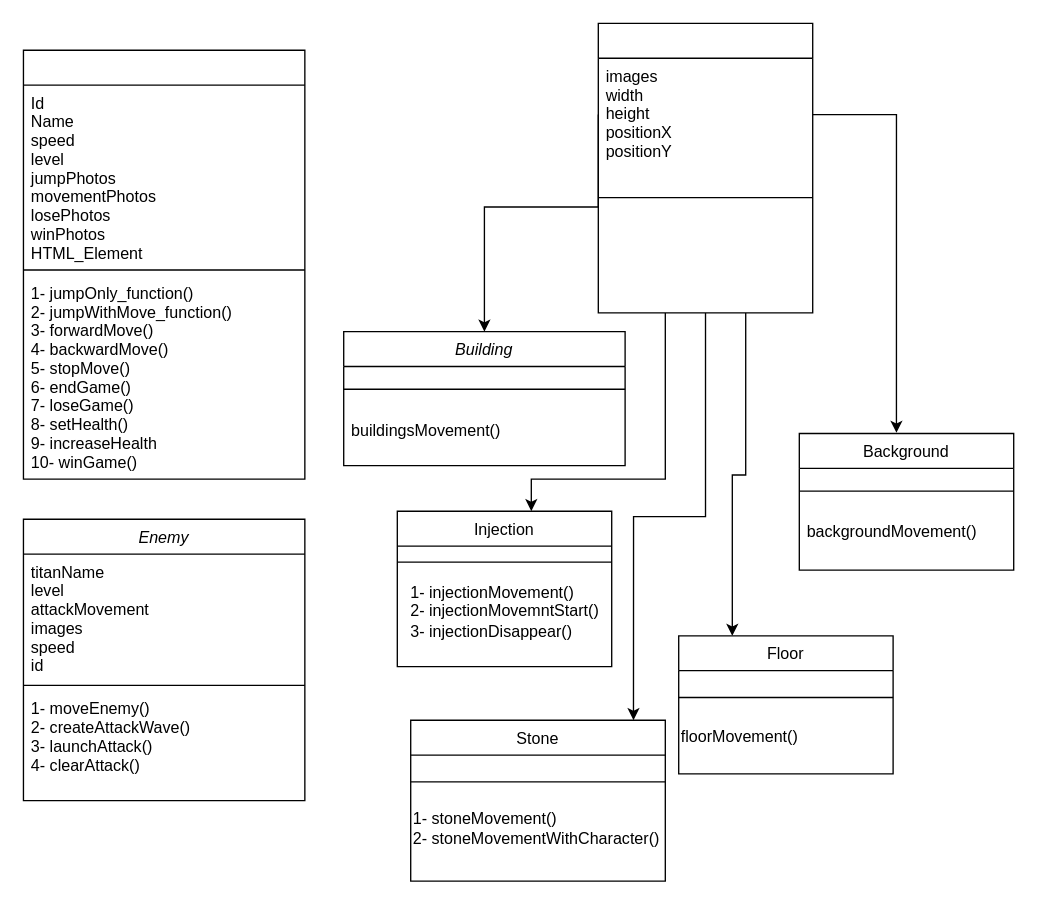
Some shapes in this 1037 by 905 pixel diagram are drawn without their labels. The shapes that lost their labels are listed below. From the top down, each one's box as (x1, y1, x2, y2) in pixels, then its label:
(597, 22, 813, 313): LevelStructure
(22, 49, 305, 479): Character
